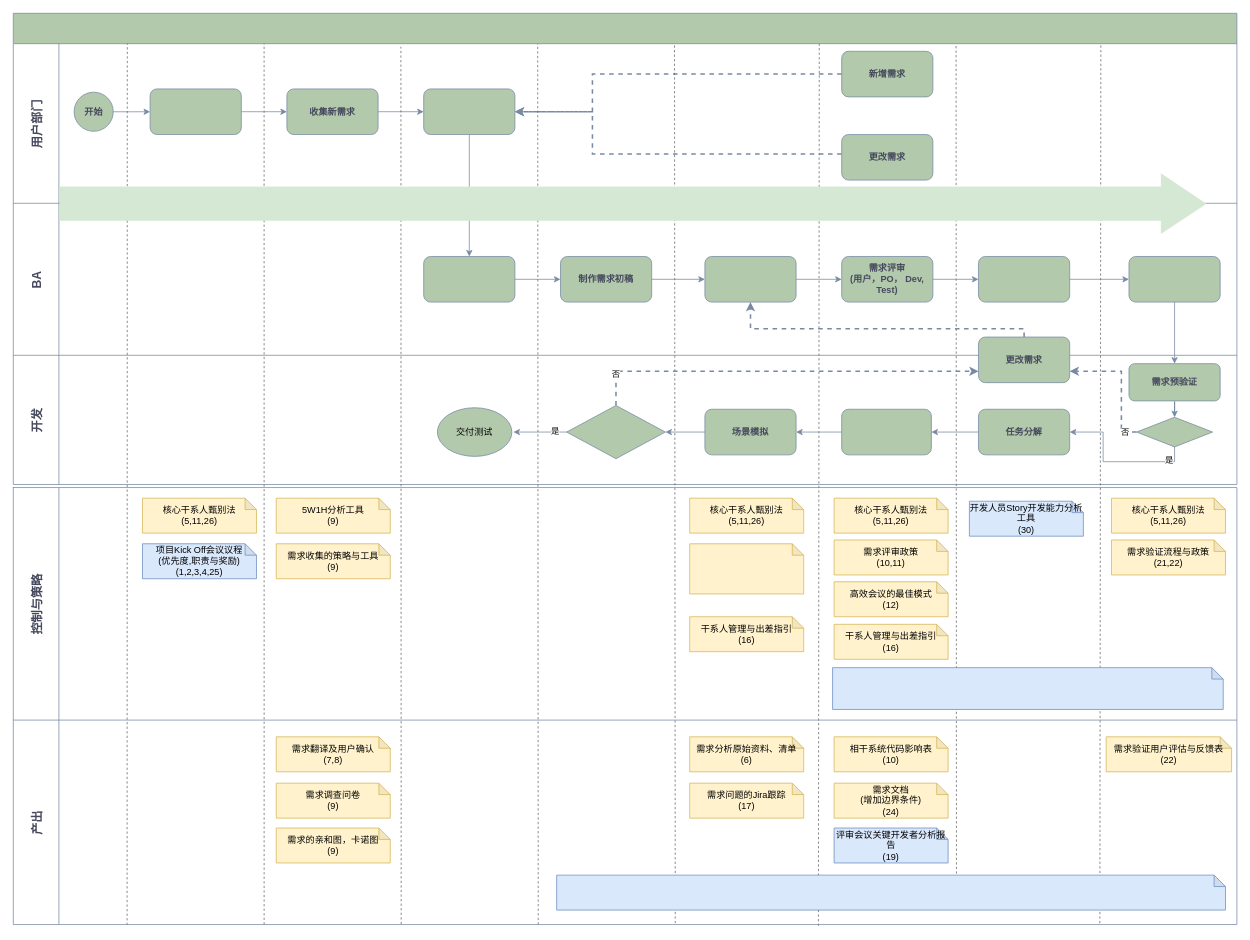
This 1250x940 diagram has some shape labels left out. Each missing label, with the box of its shape:
Story 估算: (978, 256, 1070, 302)
变更流程管理 (需求确认后的变更) (29,30,31): (832, 667, 1223, 709)
影响分析: (423, 256, 515, 302)
模拟结果: (566, 405, 665, 459)
编码: (841, 408, 931, 455)
需求录入系统: (423, 88, 515, 135)
需求梳理会议 （用户，PO， Dev, Test): (704, 256, 796, 302)
需求梳理会议政策 (原始资料保存等) (6): (689, 543, 804, 594)
需求确认 (用户，PO， Dev, Test): (1128, 256, 1220, 302)
项目会议记录Confluence Page文档化 (跟踪，确认与分析) (15): (556, 874, 1226, 910)
项目启动: (149, 88, 241, 135)
项目需求分析与开发流程图: (13, 13, 1237, 484)
验证结果: (1136, 416, 1213, 447)
